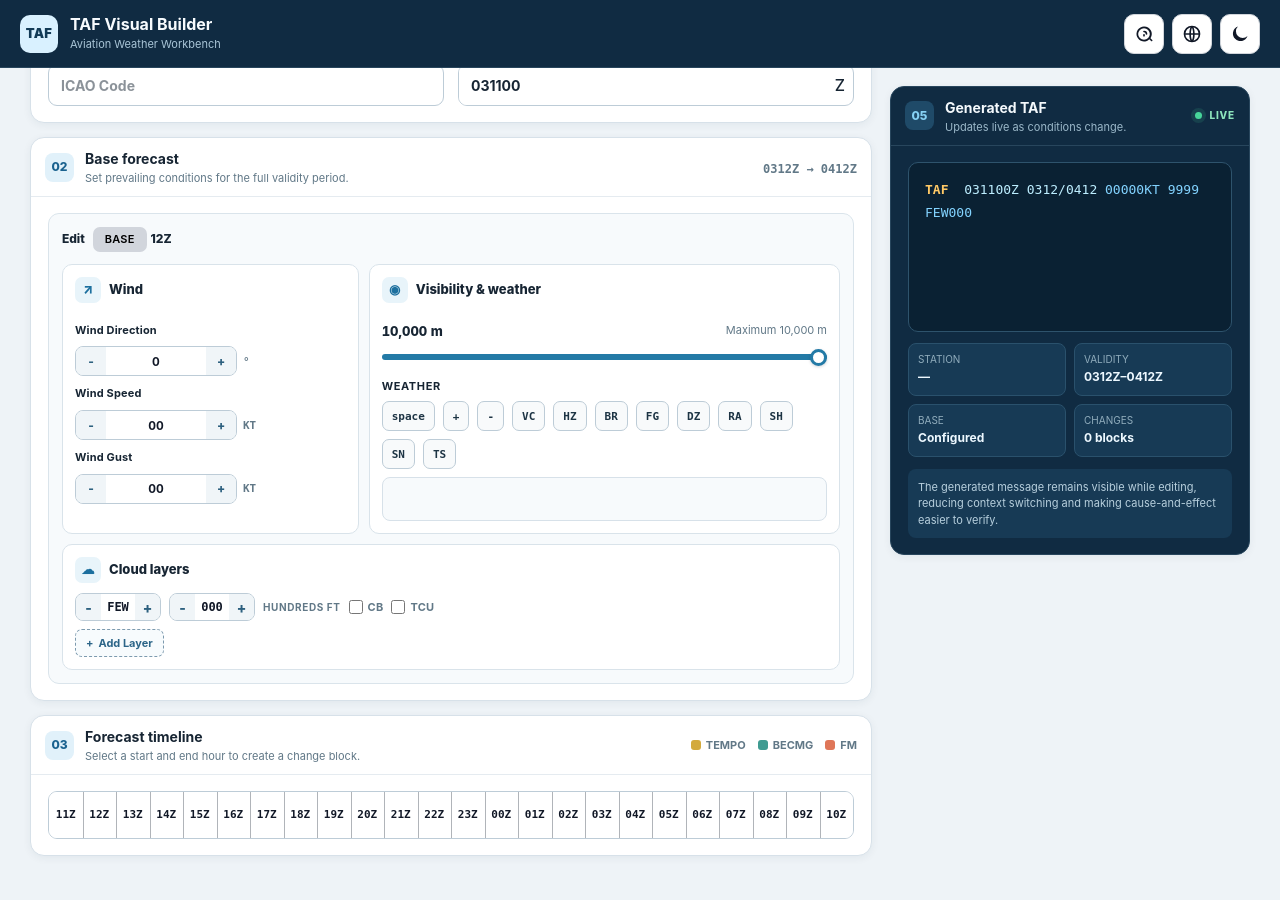
Test: TafBuilder aviation workbench › keeps change blocks masked until explicitly activated
(page scrolled)
Click the button named "Select 12Z". click: (99, 815)
box: 82,792 -> 116,838
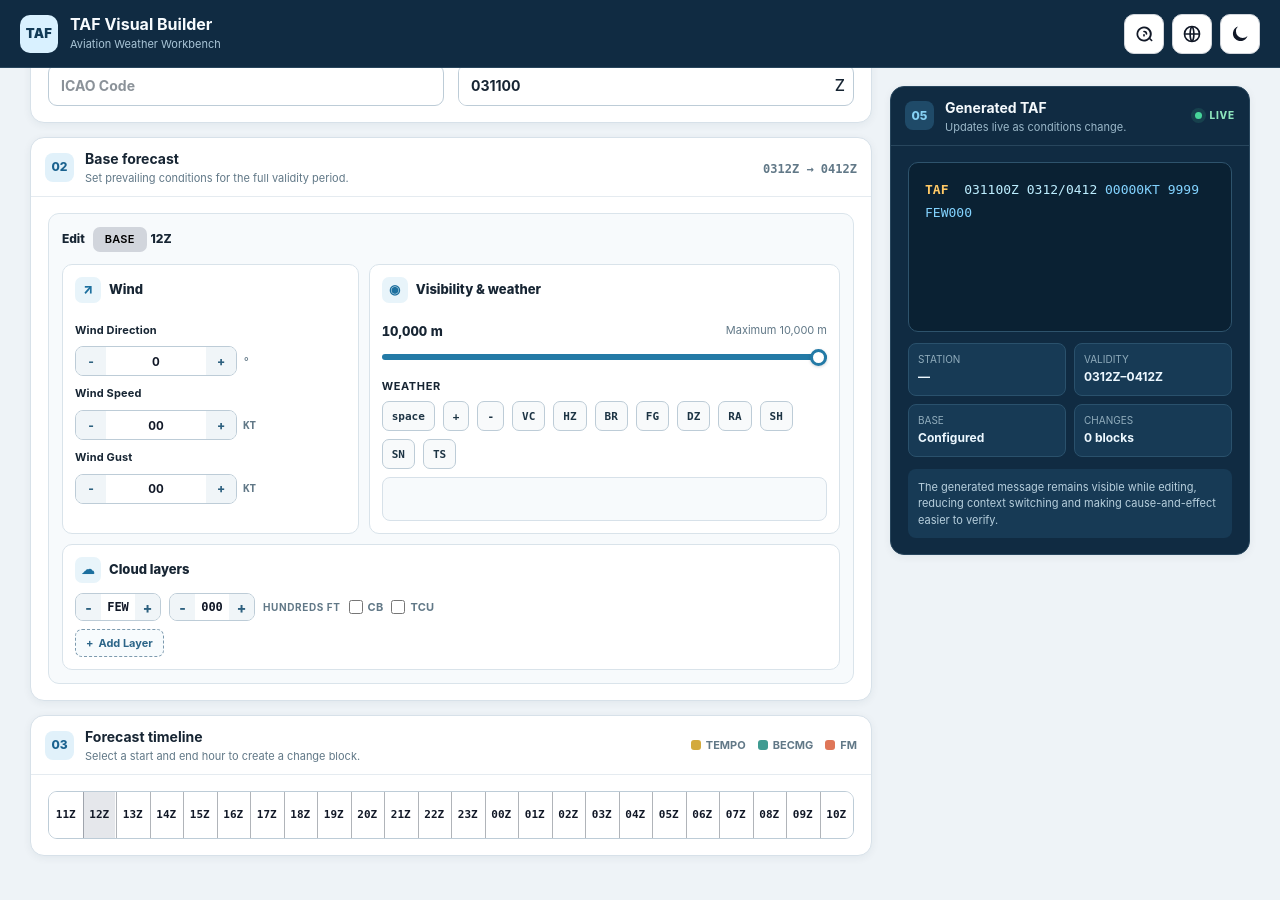
Click the button named "Select 14Z". click: (166, 815)
box: 150,792 -> 183,838
(page scrolled)
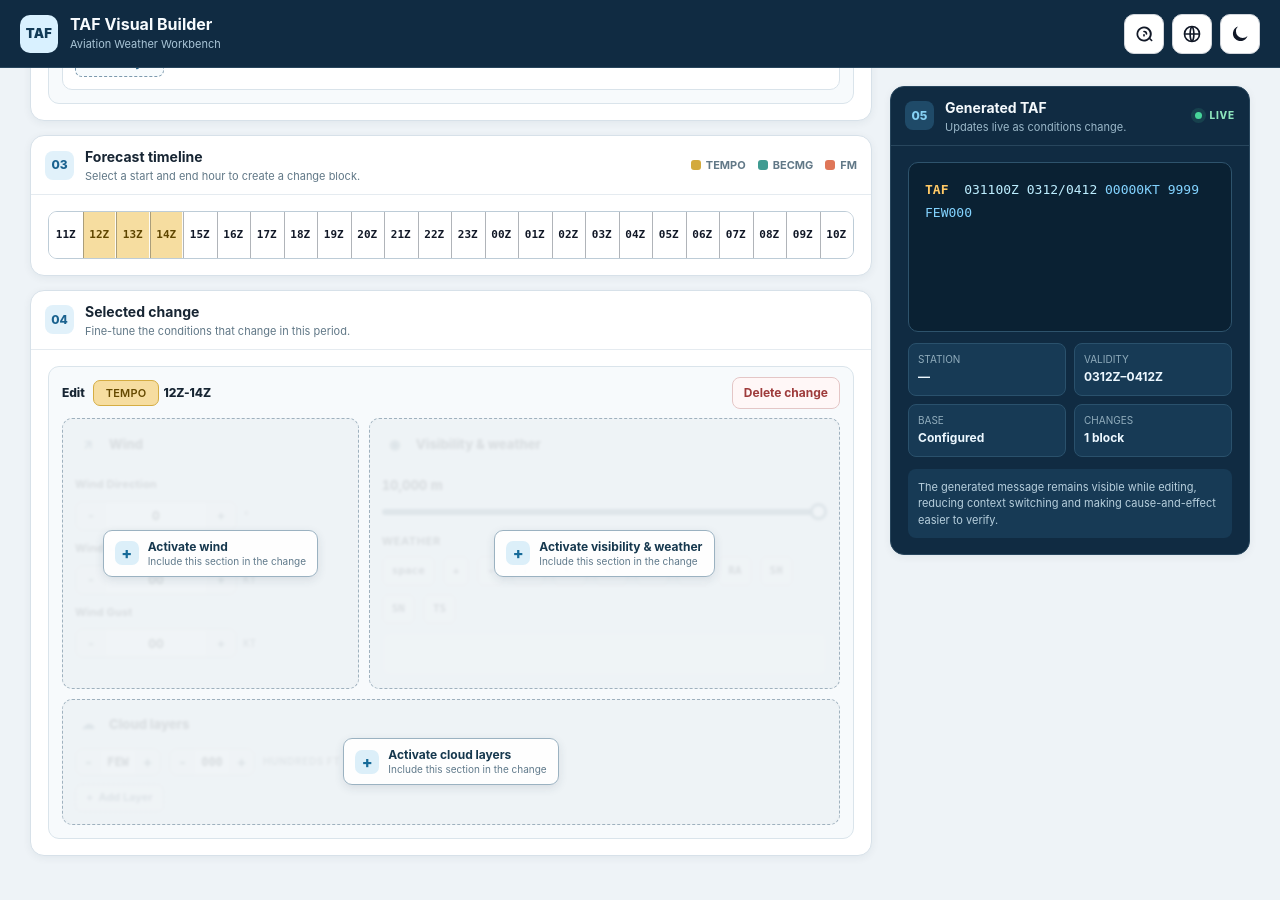
Click the button named "Activate wind to edit". click: (210, 554)
box: 103,530 -> 318,577
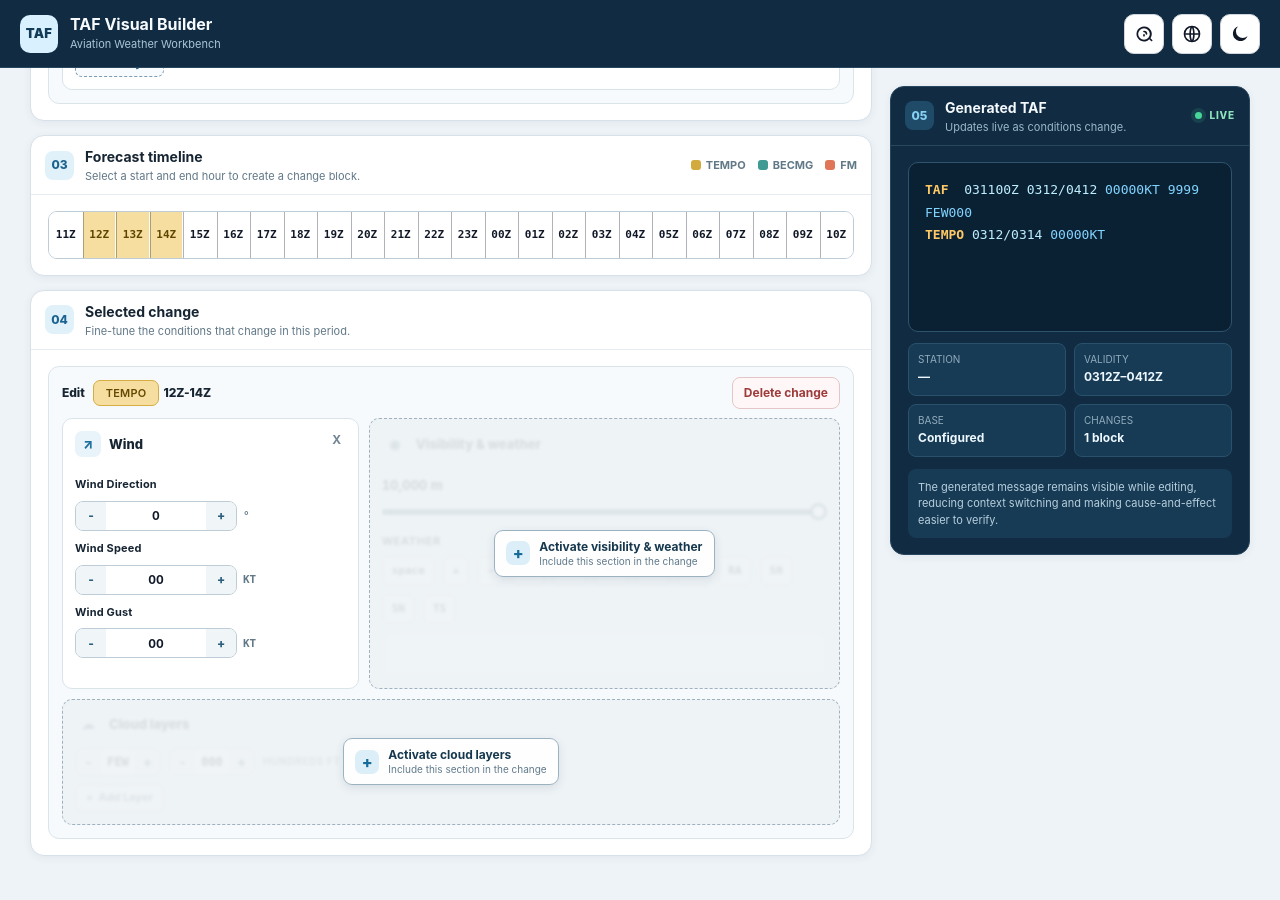
expect the button named "Deactivate wind" is shown: met, box 324,427 -> 350,453
